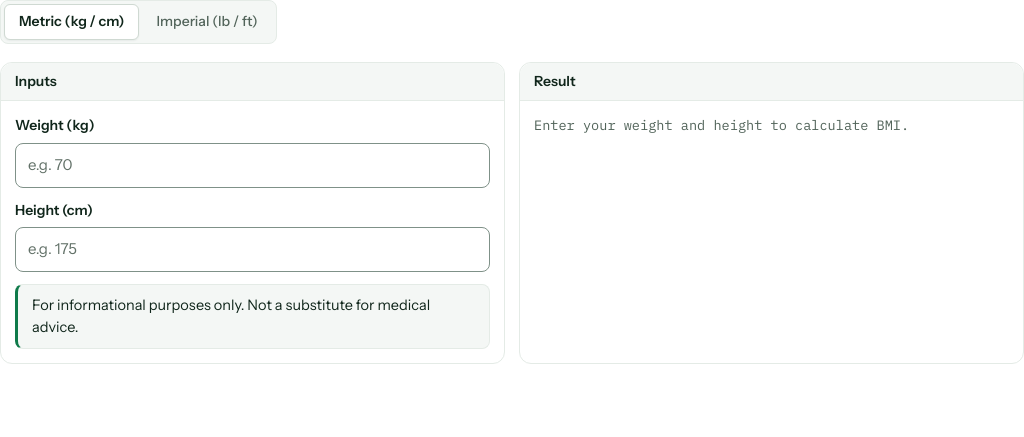
it: BmiCalculator › shows an error for negative weight
The image size is (1024, 437).
Step 1. Type "-5" into the number field with placeholder "e.g. 70" → [252, 165], box [15,143,490,188]
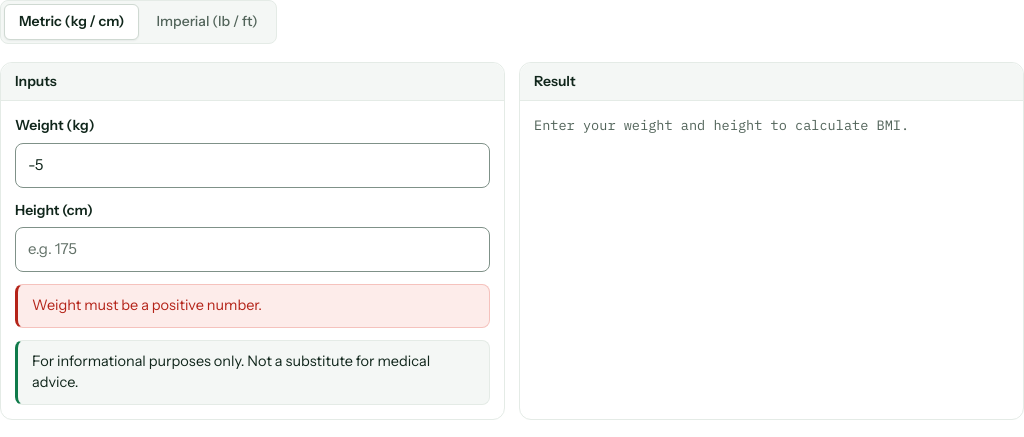
Expected: the text "Weight must be a positive number." is shown, [15,284,490,328]
